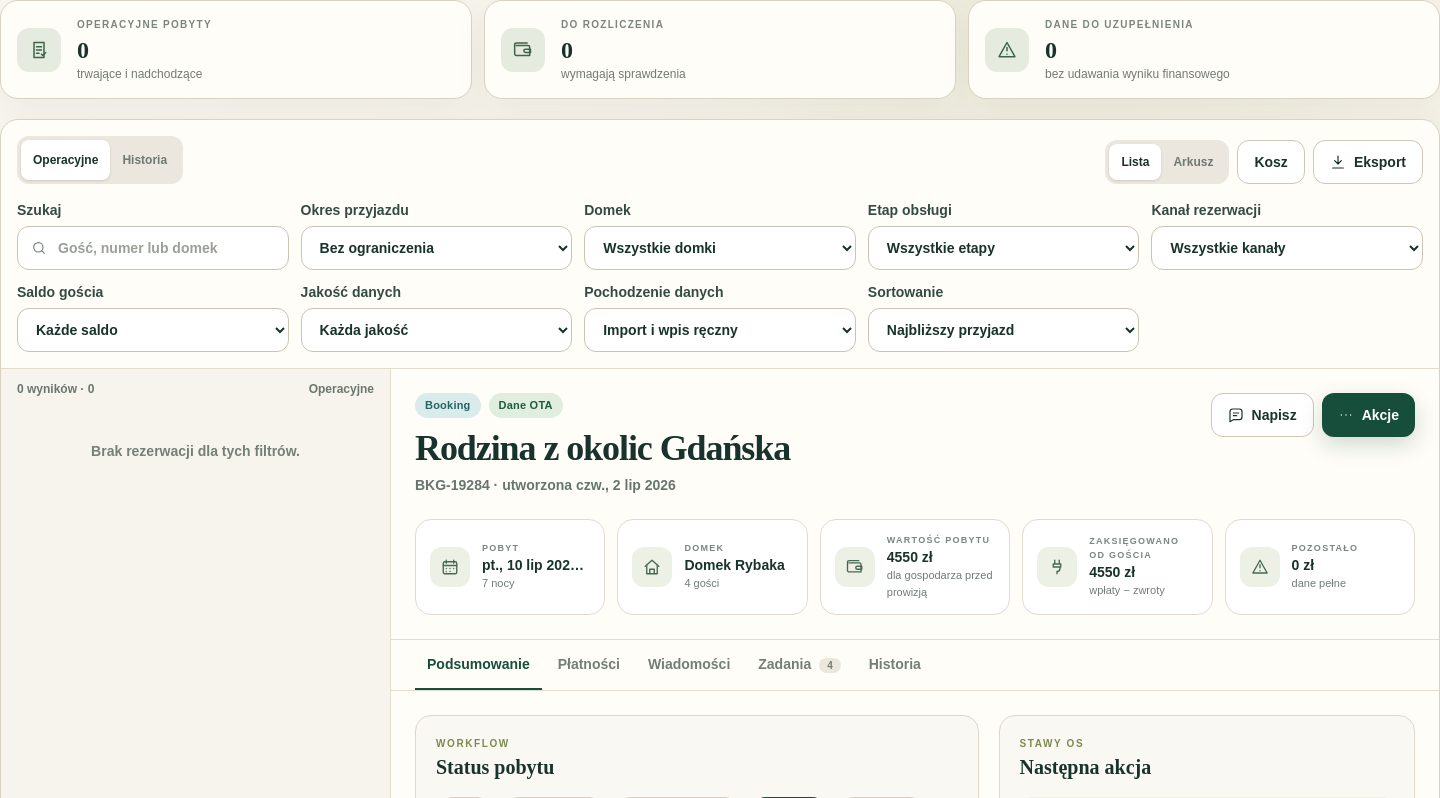
BookingsView — fundament UX › pozostawia dialog otwarty i pokazuje błąd, gdy anulowanie nie zostało zapisane
Click the button "Akcje".
click(1368, 415)  # box [1322, 393, 1415, 437]
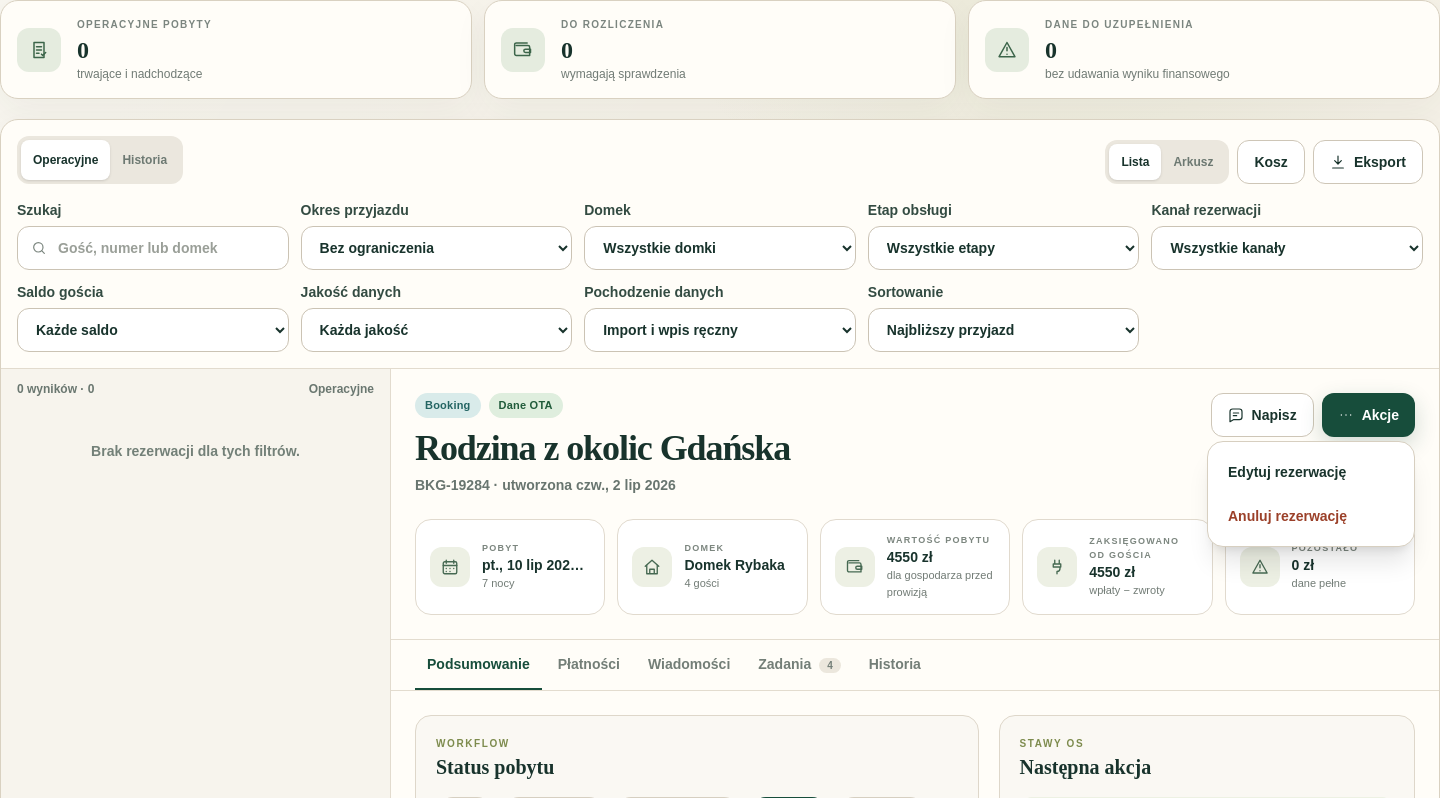
Click the button "Anuluj rezerwację".
click(1311, 516)  # box [1216, 494, 1406, 538]
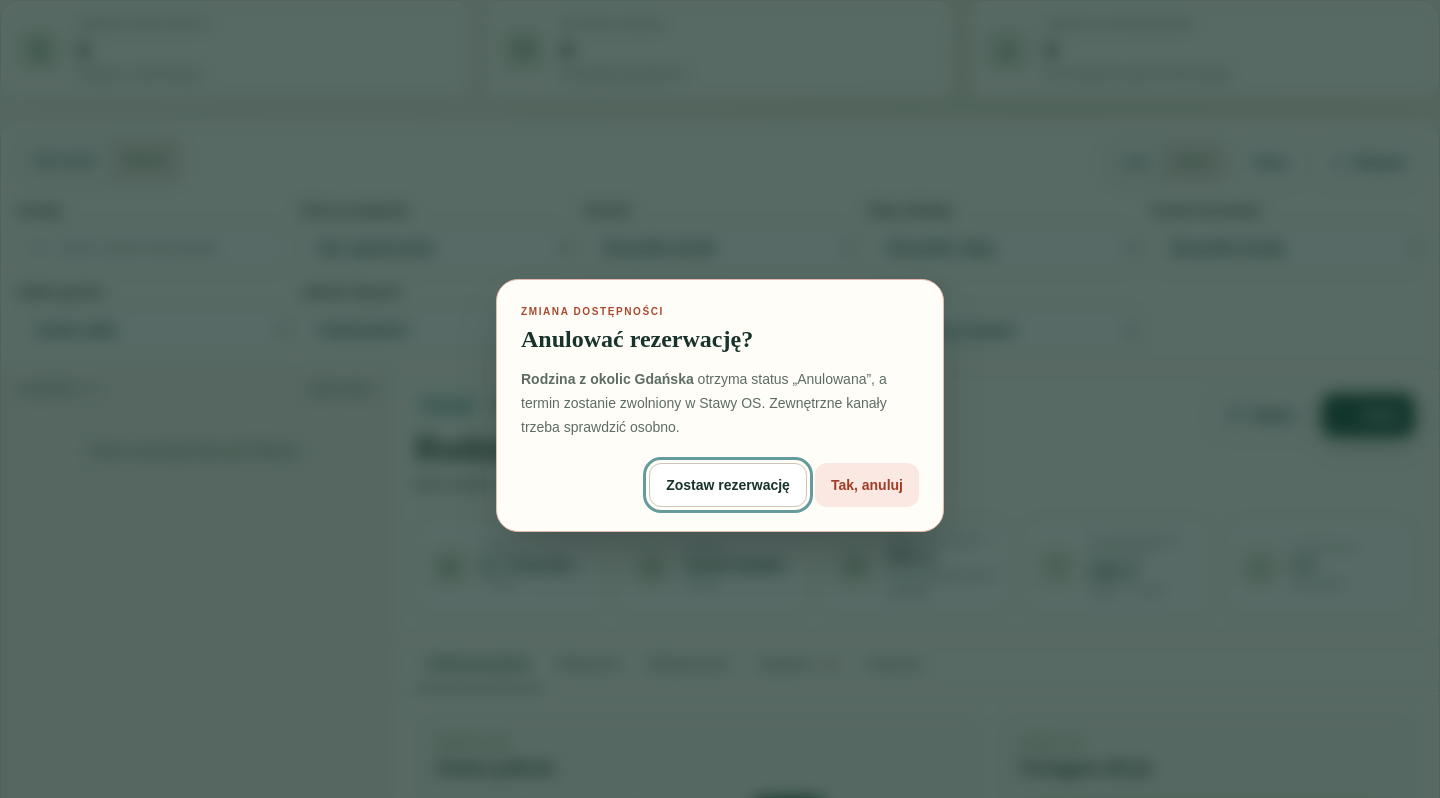
Click the button "Tak, anuluj".
click(867, 484)  # box [815, 462, 919, 506]
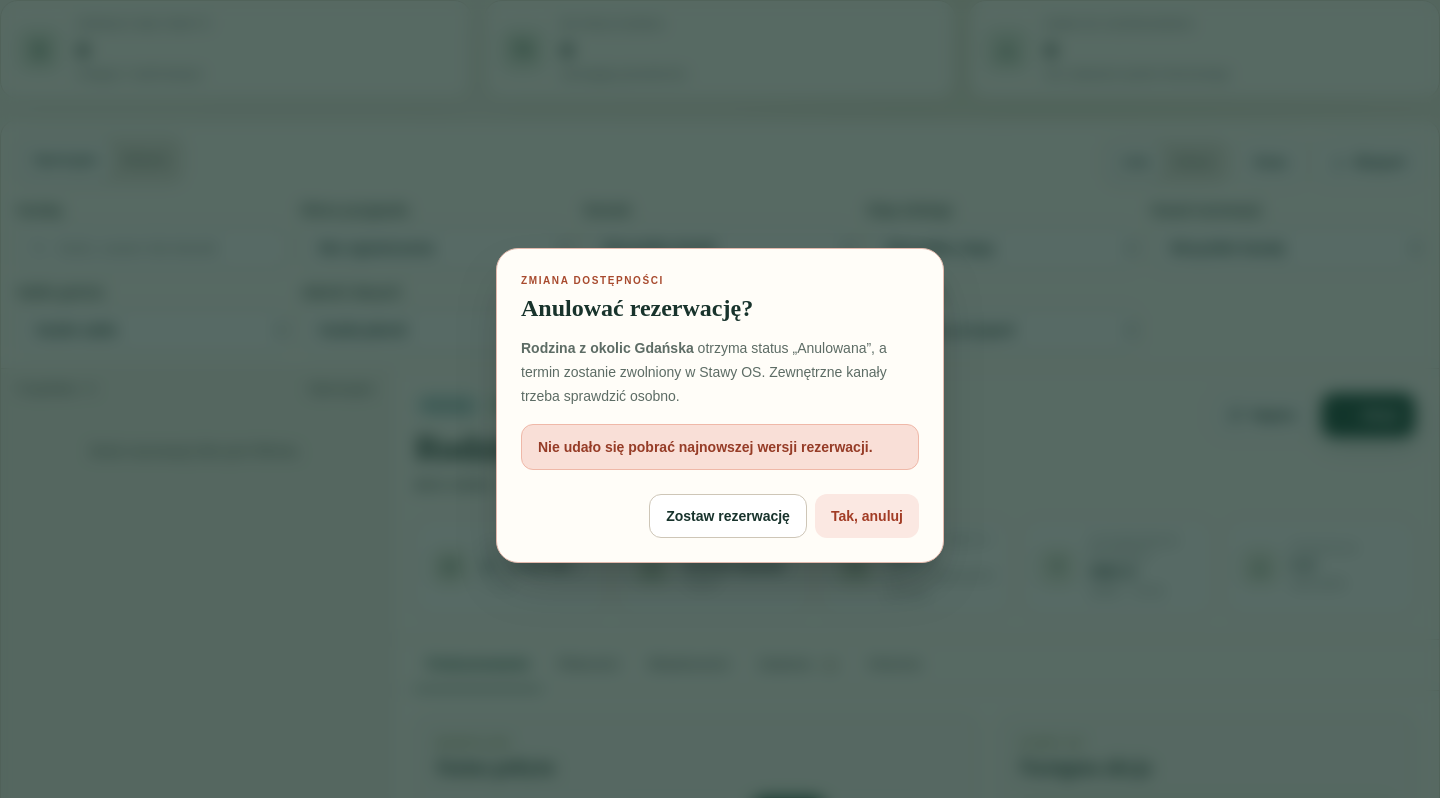
Expected: the dialog "Anulować rezerwację?" is shown, [496, 248, 944, 562]
Expected: the message reads "Nie udało się pobrać najnowszej wersji rezerwacji.", [538, 438, 873, 454]
